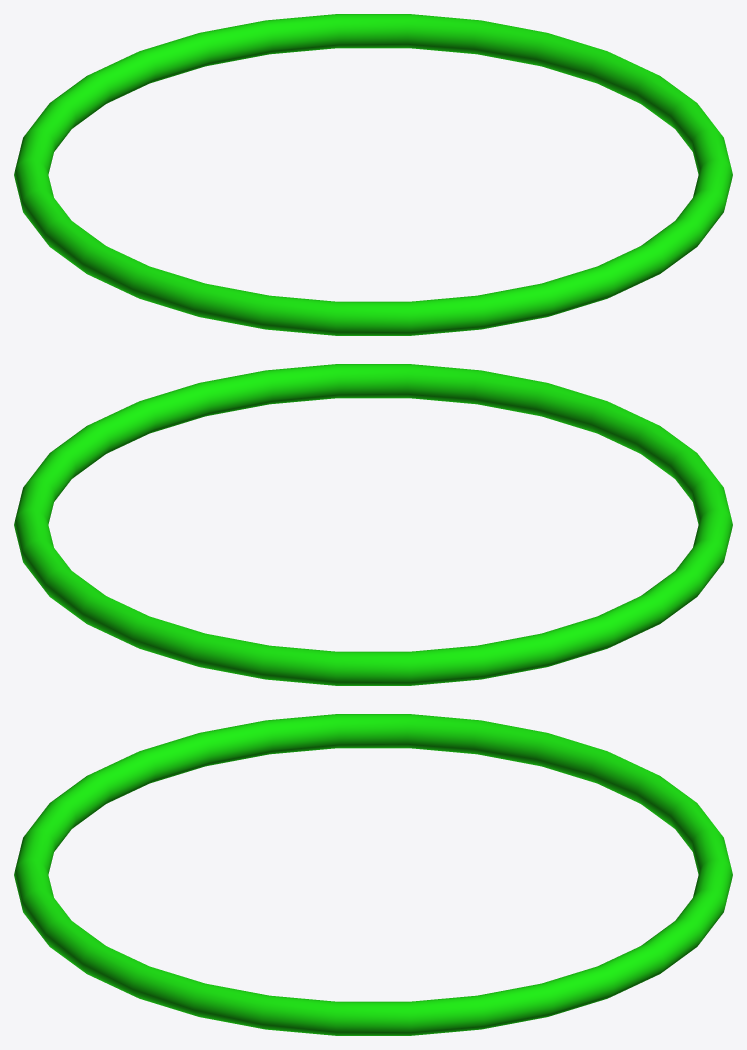
File: ring.fbx
3 renders of one model, top to bottom at view 1: azimuth 30°, elevation 25°; view 2: azimuth 150°, elevation 25°; view 3: azimuth 270°, elevation 25°, orthographic.
Visible parts, largest first — view 1: Mesh Object; view 2: Mesh Object; view 3: Mesh Object.
Boxes of the visible parts, left/top/right/bottom form: Mesh Object: left=14, top=14, right=732, bottom=335; Mesh Object: left=14, top=364, right=732, bottom=685; Mesh Object: left=14, top=714, right=732, bottom=1035.
Bounding box in the file's own units: 20.88 × 1 × 21.
